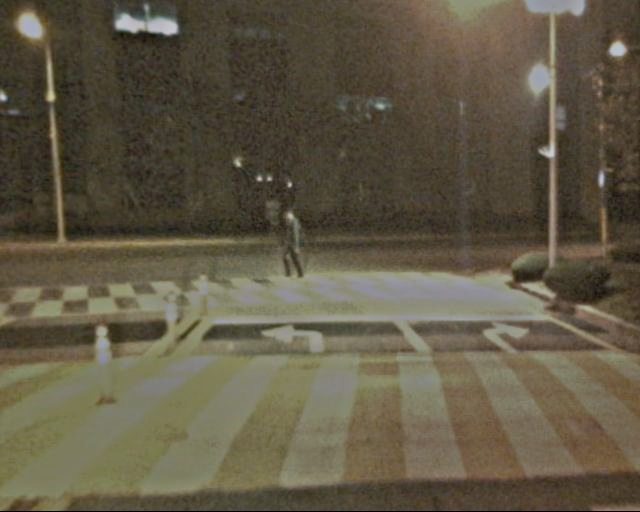person: (274, 209, 307, 289)
